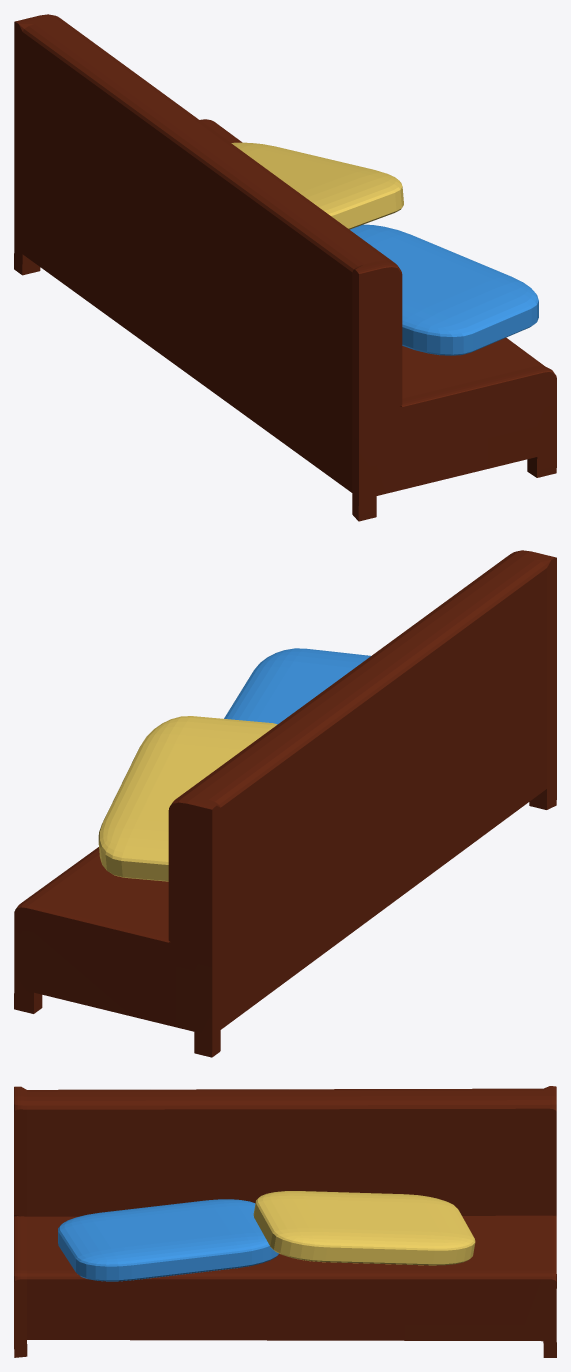
File: Divan2.fbx
3 views of the same model, one above another, from view 1: azimuth 30°, elevation 25°; view 2: azimuth 150°, elevation 25°; view 3: azimuth 270°, elevation 25° (orthographic). The views are drawn at different scales.
Parts seen in each view (by area): view 1: Cube, Cube.001, Cube.002; view 2: Cube, Cube.002, Cube.001; view 3: Cube, Cube.002, Cube.001.
Boxes of the visible parts, x1,y1,x2,y2 form: Cube: [14, 14, 556, 521]; Cube.001: [350, 224, 538, 355]; Cube.002: [231, 142, 403, 229]; Cube: [14, 550, 556, 1057]; Cube.002: [98, 716, 277, 881]; Cube.001: [224, 648, 370, 724]; Cube: [14, 1086, 556, 1357]; Cube.002: [253, 1191, 475, 1265]; Cube.001: [58, 1199, 278, 1281].
Bounding box in the file's own units: 234 × 240 × 603.
